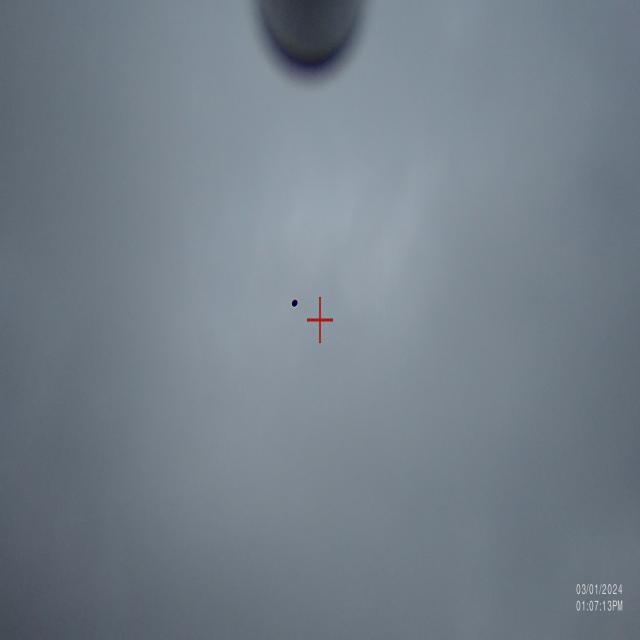entire: (285, 284, 302, 326)
